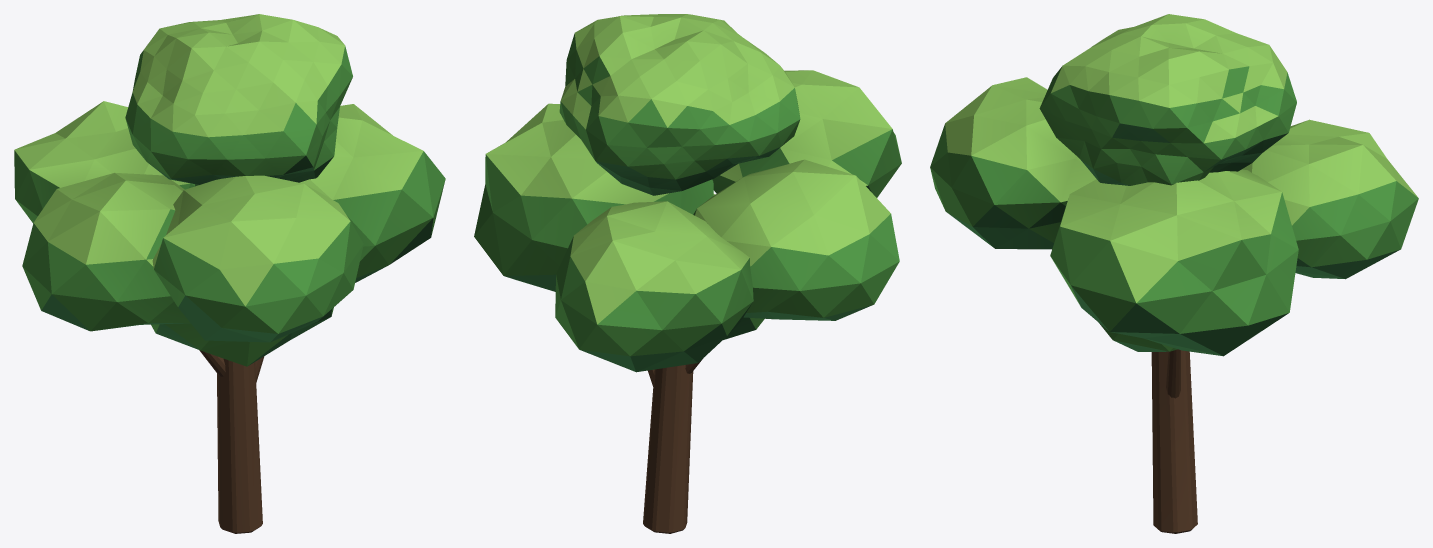
File: tree_broadleaf_b_large.glb
3 renders of one model, left to right at view 1: azimuth 30°, elevation 25°; view 2: azimuth 150°, elevation 25°; view 3: azimuth 270°, elevation 25°, orthographic.
Visible parts, largest first — view 1: Canopy, Trunk; view 2: Canopy, Trunk; view 3: Canopy, Trunk.
Boxes of the visible parts, left/top/right/bottom form: Canopy: left=14, top=14, right=445, bottom=366; Trunk: left=199, top=350, right=264, bottom=533; Canopy: left=474, top=14, right=901, bottom=372; Trunk: left=643, top=358, right=703, bottom=533; Canopy: left=930, top=14, right=1418, bottom=356; Trunk: left=1151, top=349, right=1197, bottom=533.
Bounding box in the file's own units: 9.98 × 11.92 × 10.75.
Materials: 1 (1 with a texture image).
